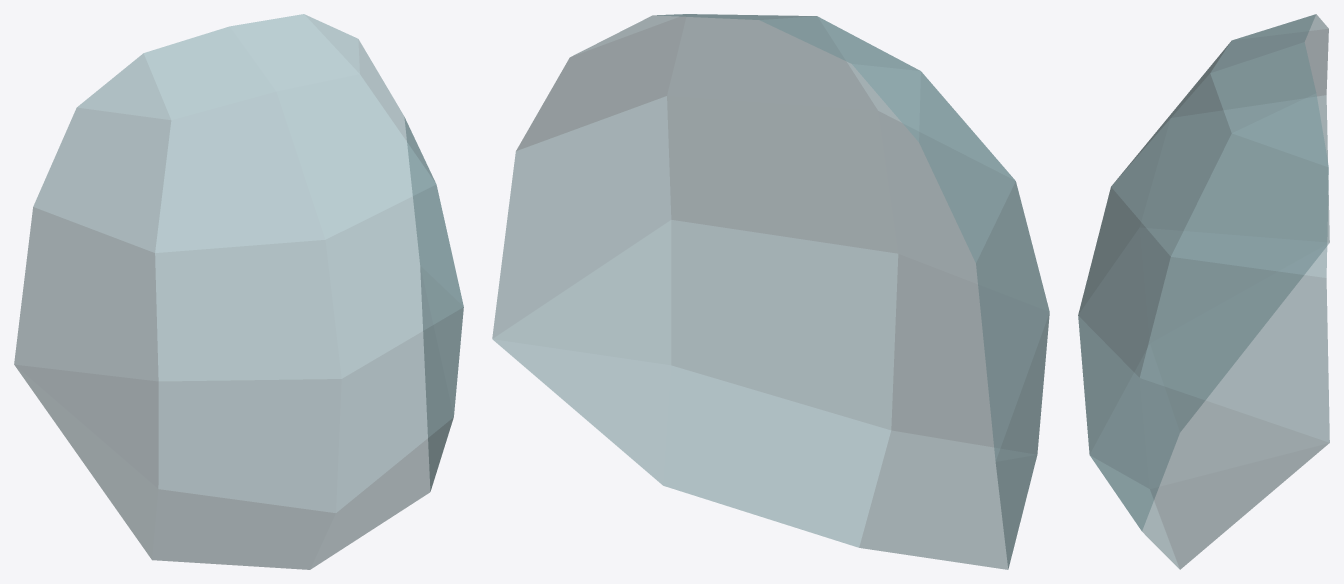
The model's file is SM_Chr_Attach_Mining_Suit_Visor_01.fbx.
3 renders of one model, left to right at view 1: azimuth 30°, elevation 25°; view 2: azimuth 150°, elevation 25°; view 3: azimuth 270°, elevation 25°, orthographic. The views are drawn at different scales.
Parts seen in each view (by area): view 1: SM_Chr_Attach_Mining_Suit_Visor_01; view 2: SM_Chr_Attach_Mining_Suit_Visor_01; view 3: SM_Chr_Attach_Mining_Suit_Visor_01.
Boxes of the visible parts, <box> form: SM_Chr_Attach_Mining_Suit_Visor_01: <box>14,14,463,569</box>; SM_Chr_Attach_Mining_Suit_Visor_01: <box>492,14,1049,569</box>; SM_Chr_Attach_Mining_Suit_Visor_01: <box>1078,14,1329,569</box>.
Size of the model in its own units: 32.88 by 37.49 by 17.47.
